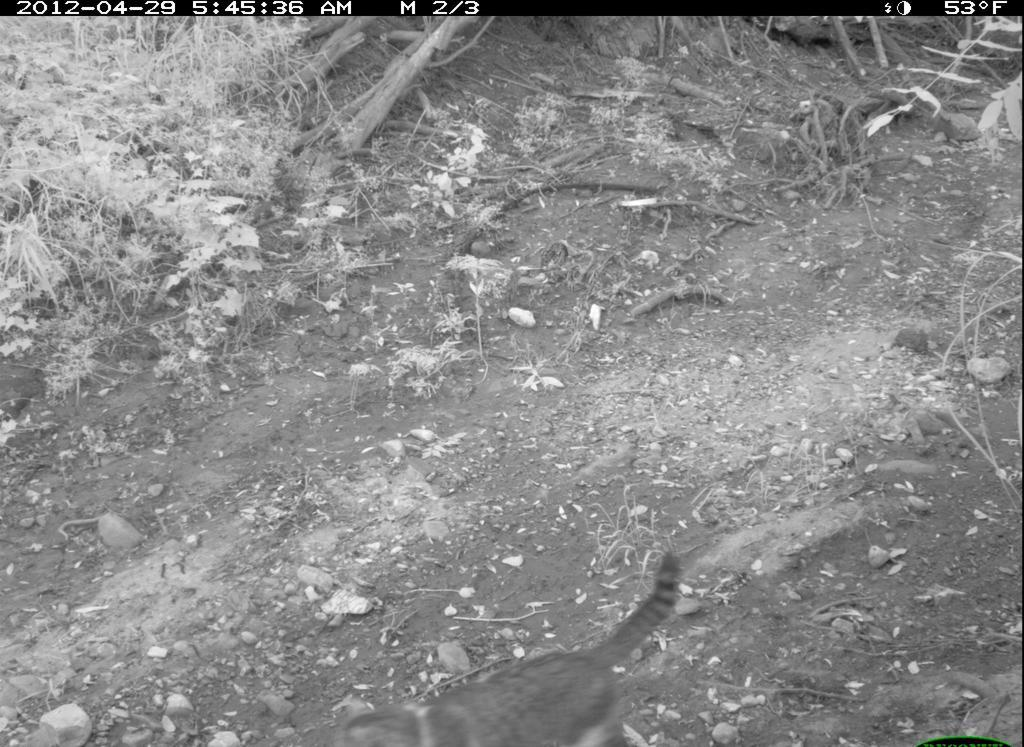cat: (327, 521, 717, 747)
